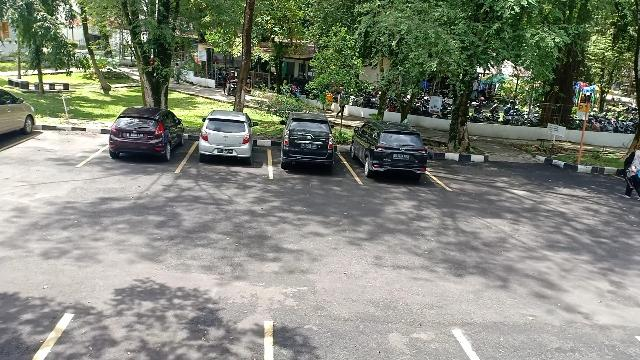empty: (14, 124, 100, 170)
occupied: (102, 116, 188, 176), (188, 120, 270, 174), (348, 135, 430, 185), (270, 126, 346, 178)
